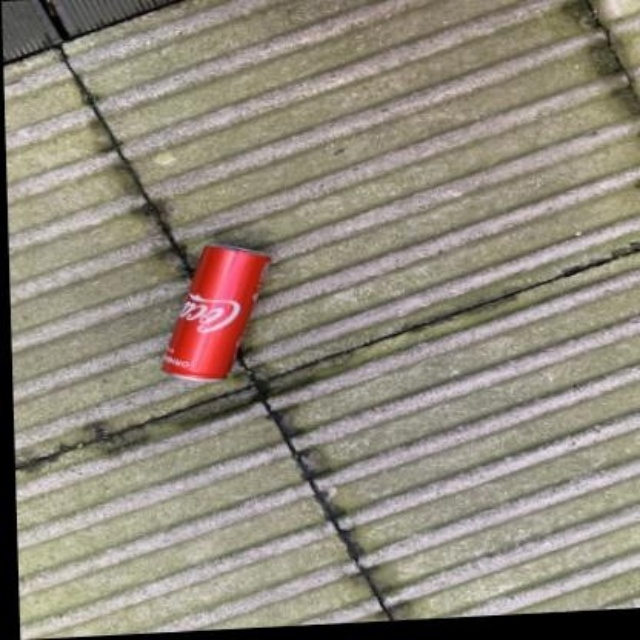trash: (162, 246, 269, 378)
